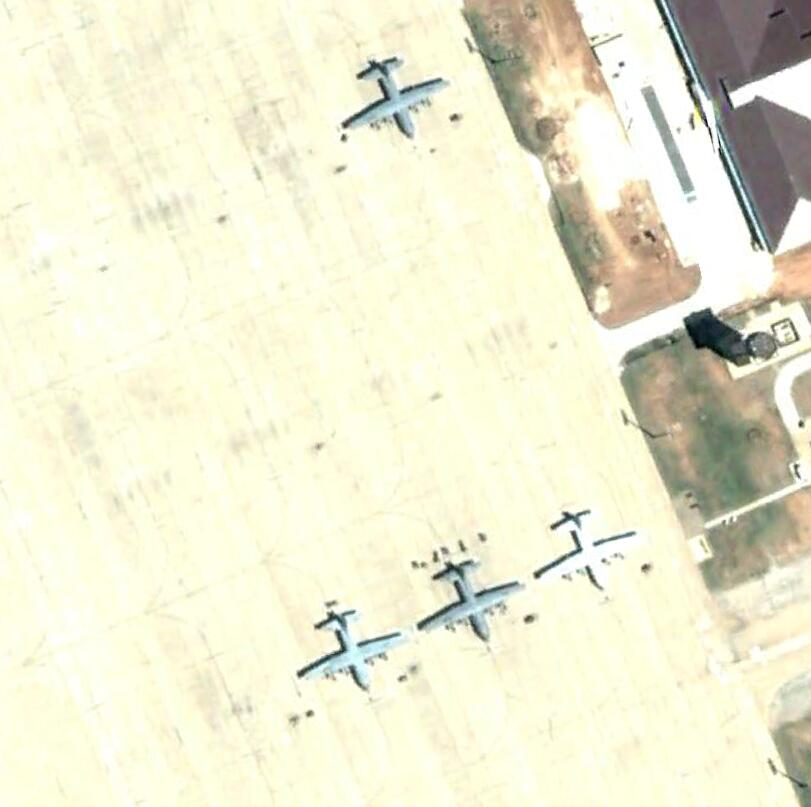A2: (293, 603, 404, 696), (413, 558, 528, 645), (343, 57, 450, 146), (532, 507, 643, 591)
